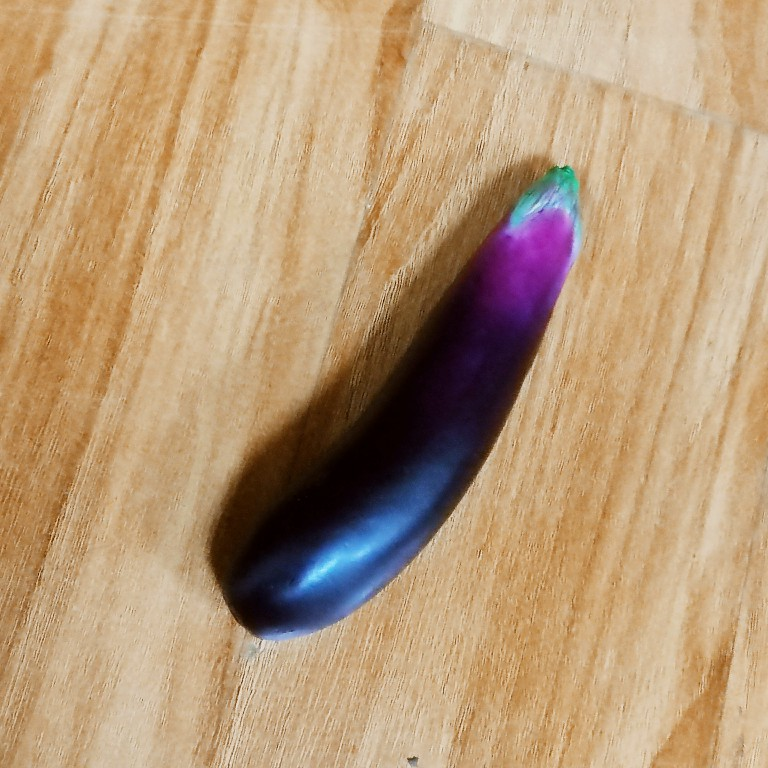fruit_eggplant: (224, 158, 587, 646)
